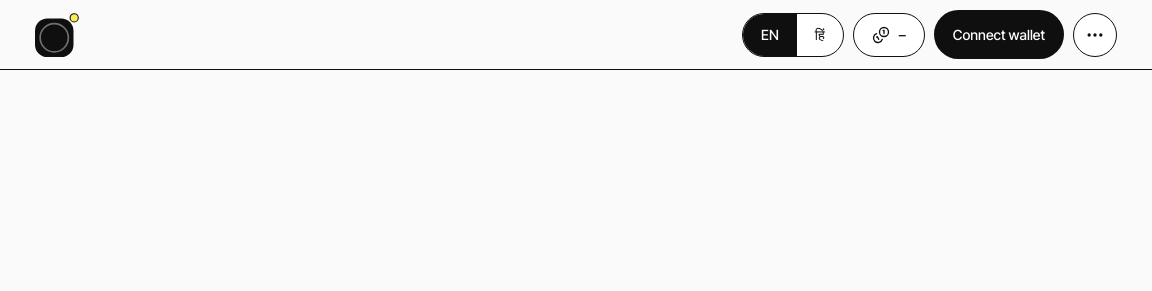
Test: TopBar › overflow menu offers History, Settings, Stage mode and GitHub
The image size is (1152, 291).
Click the button named "More" at coordinates (1095, 34), box [1073,12,1117,56]
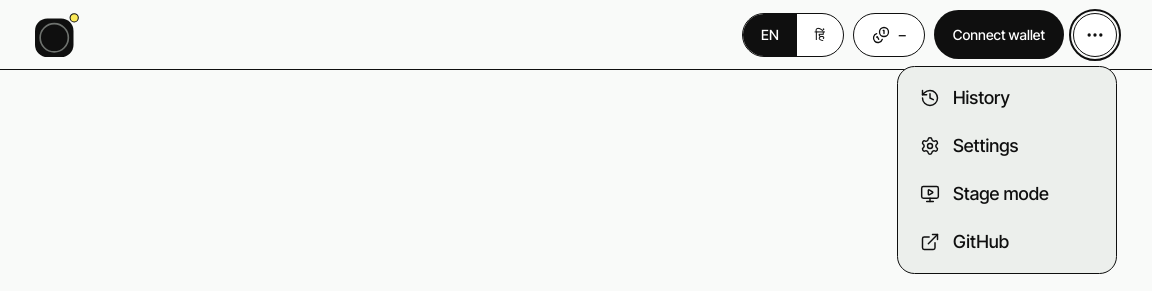
Press Escape
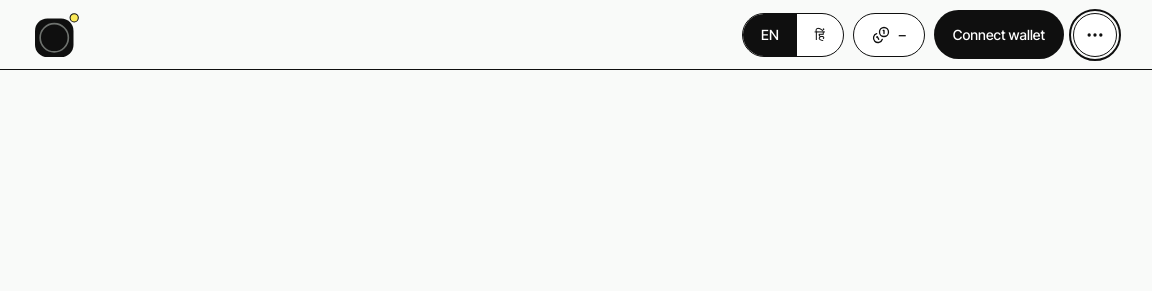
Now the menu item "History" is gone
